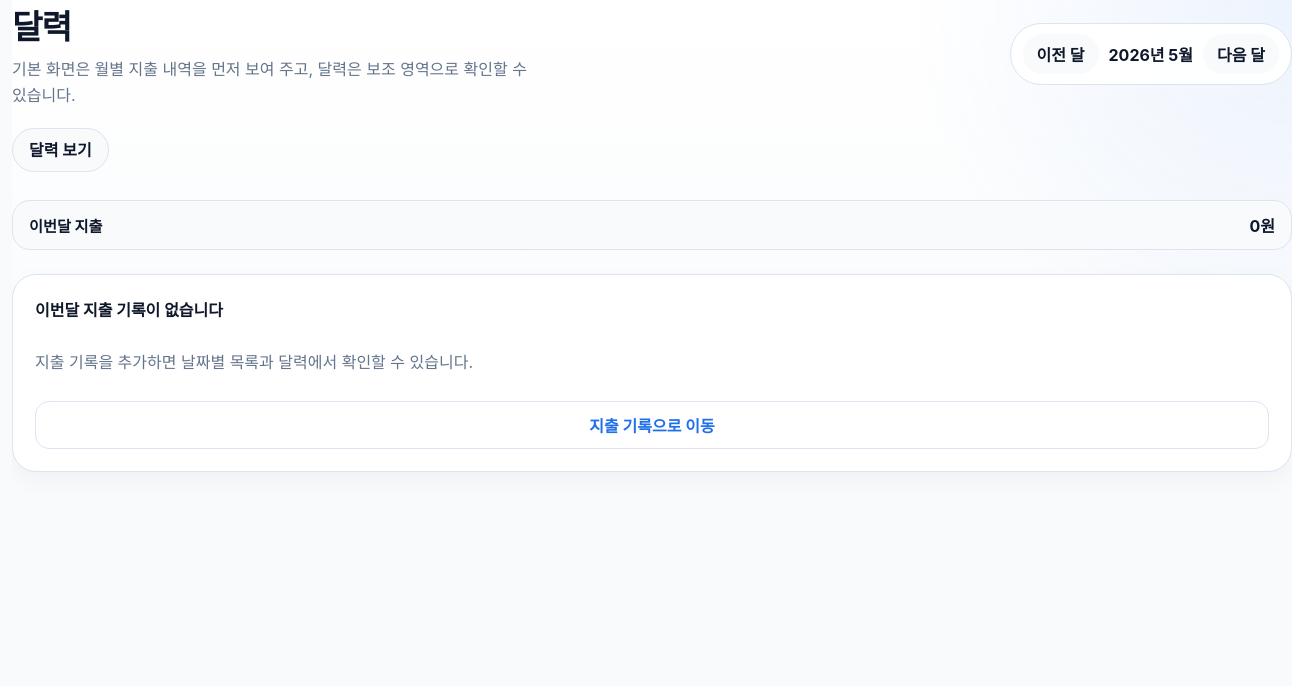
Test: Calendar › toggles the calendar grid open and closed
The width and height of the screenshot is (1292, 686).
Click the button "달력 보기" at coordinates (60, 150), box top-left (12, 128), bottom-right (109, 172)
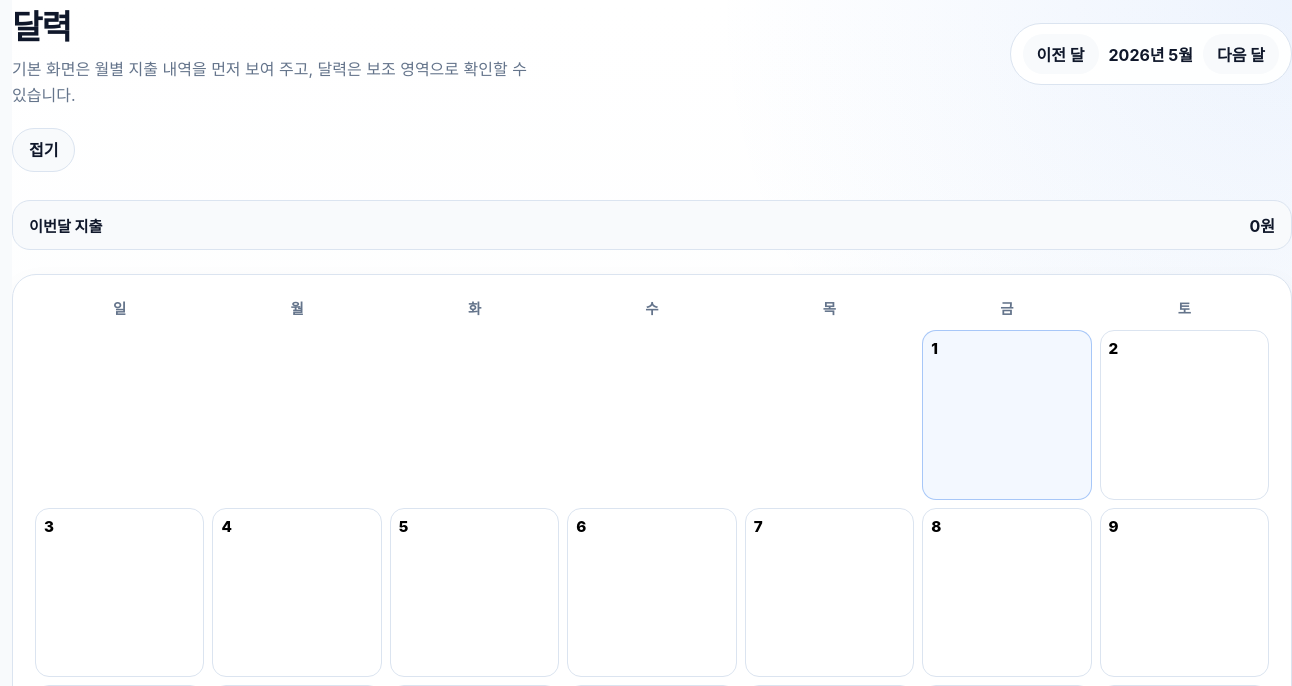
Now the button "접기" is shown
Now the text "일" is shown, box top-left (113, 300), bottom-right (126, 317)
Click the button "접기" at coordinates (44, 150), box top-left (12, 128), bottom-right (76, 172)
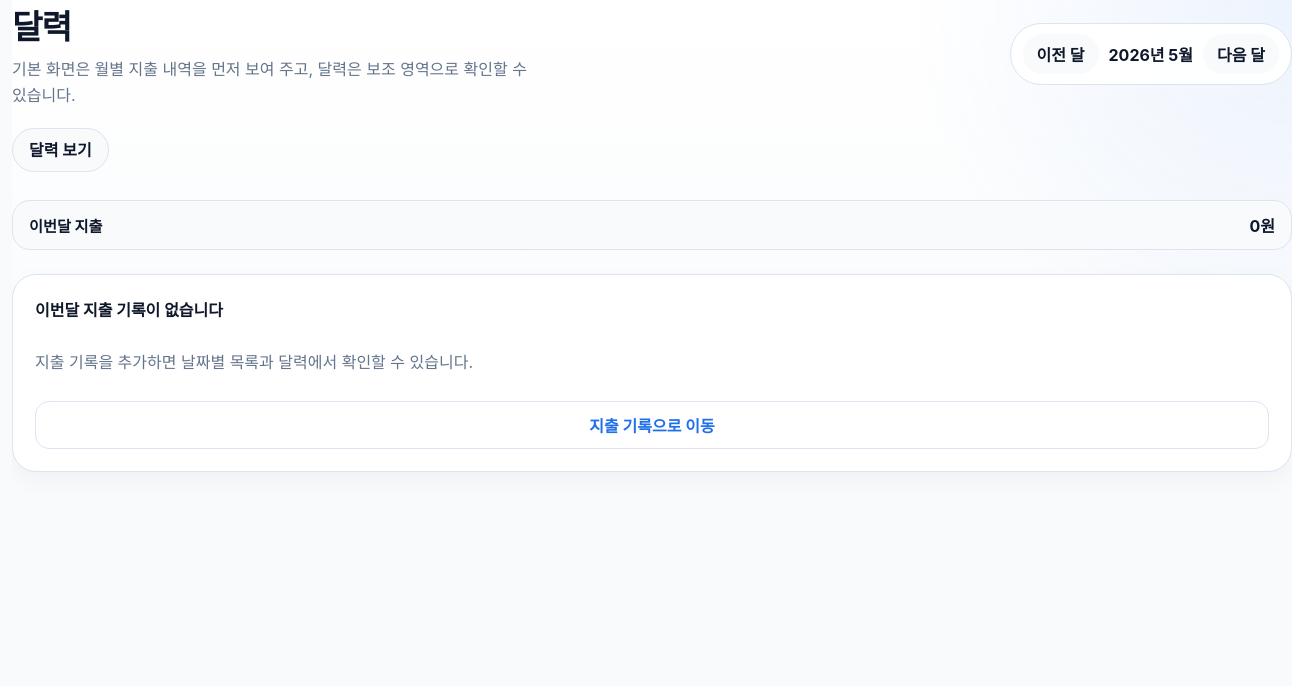
Now the button "달력 보기" is shown, box top-left (12, 128), bottom-right (109, 172)
